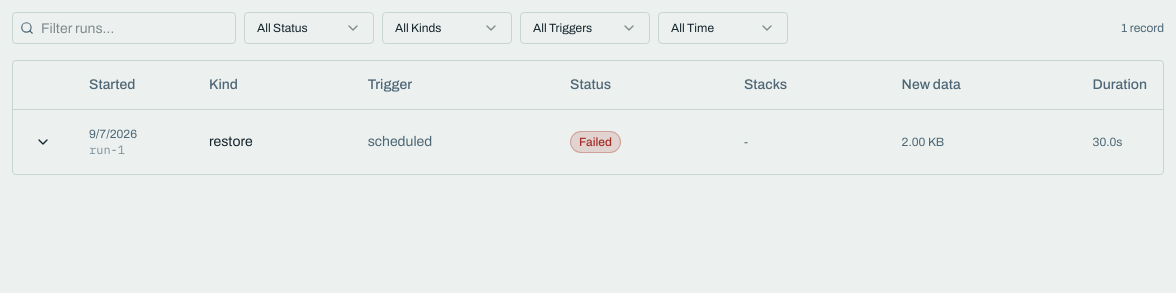
Test: BackupHistoryTab — expandable run rows › still shows the run's error message when the detail fetch fails
Check: the text "run-1" is shown, box [89, 142, 125, 156]
What coordinates should you click on to do the following:
click the button named "Show details for run run-1"
I would click on:
 (43, 142)
Its box is [29, 128, 57, 156].
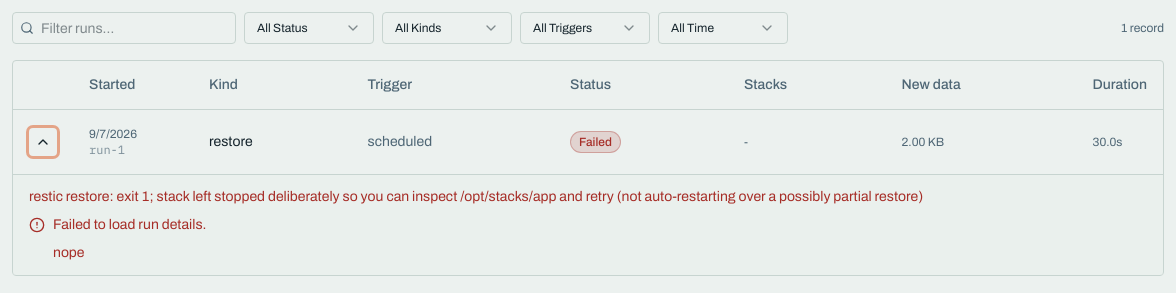
Check: the text "Failed to load run details." is shown, box [29, 216, 206, 232]
Check: the text with test id "run-error-message-run-1" shows "restic restore: exit 1; stack left stopped deliberately so you can inspect /opt/stacks/app and retry (not auto-restarting over a possibly partial restore)", box [29, 188, 923, 204]
